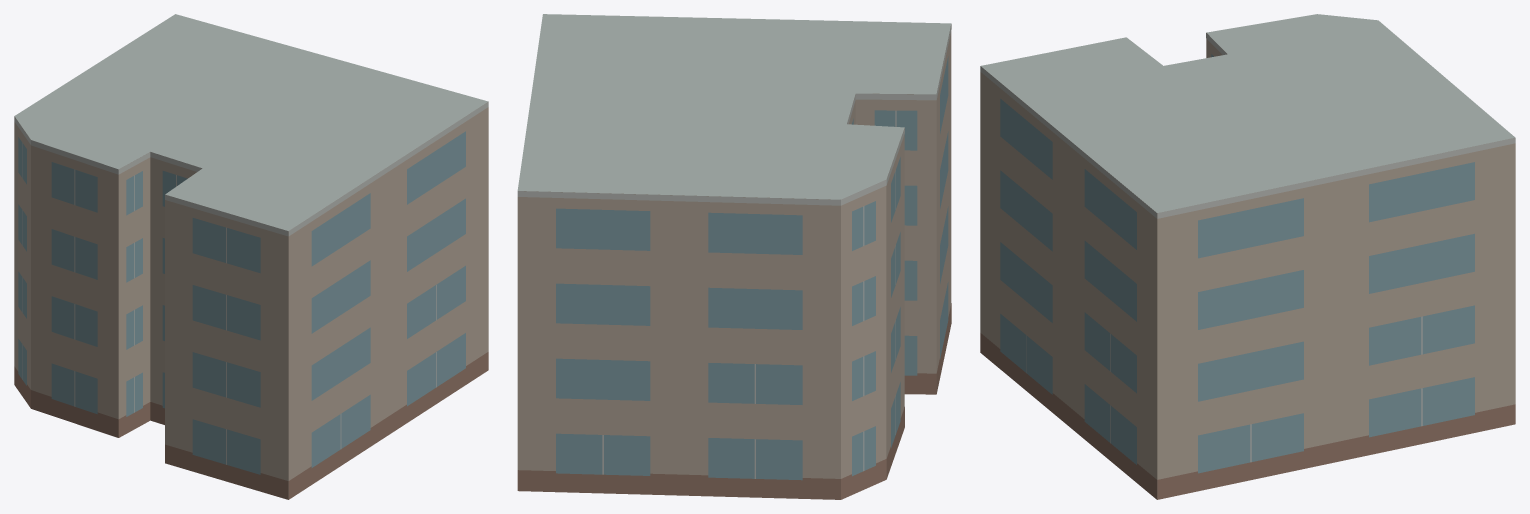
Rendered from survey-upis-32959031.glb.
3 views of the same model, side by side, from view 1: azimuth 30°, elevation 25°; view 2: azimuth 150°, elevation 25°; view 3: azimuth 270°, elevation 25° (orthographic). The views are drawn at different scales.
Parts seen in each view (by area): view 1: survey-upis-32959031.tmp; view 2: survey-upis-32959031.tmp; view 3: survey-upis-32959031.tmp.
Boxes of the visible parts, x1,y1,x2,y2 form: survey-upis-32959031.tmp: [14, 14, 488, 499]; survey-upis-32959031.tmp: [517, 14, 951, 499]; survey-upis-32959031.tmp: [980, 14, 1515, 499].
Size of the model in its own units: 18.18 by 12.2 by 20.65.
